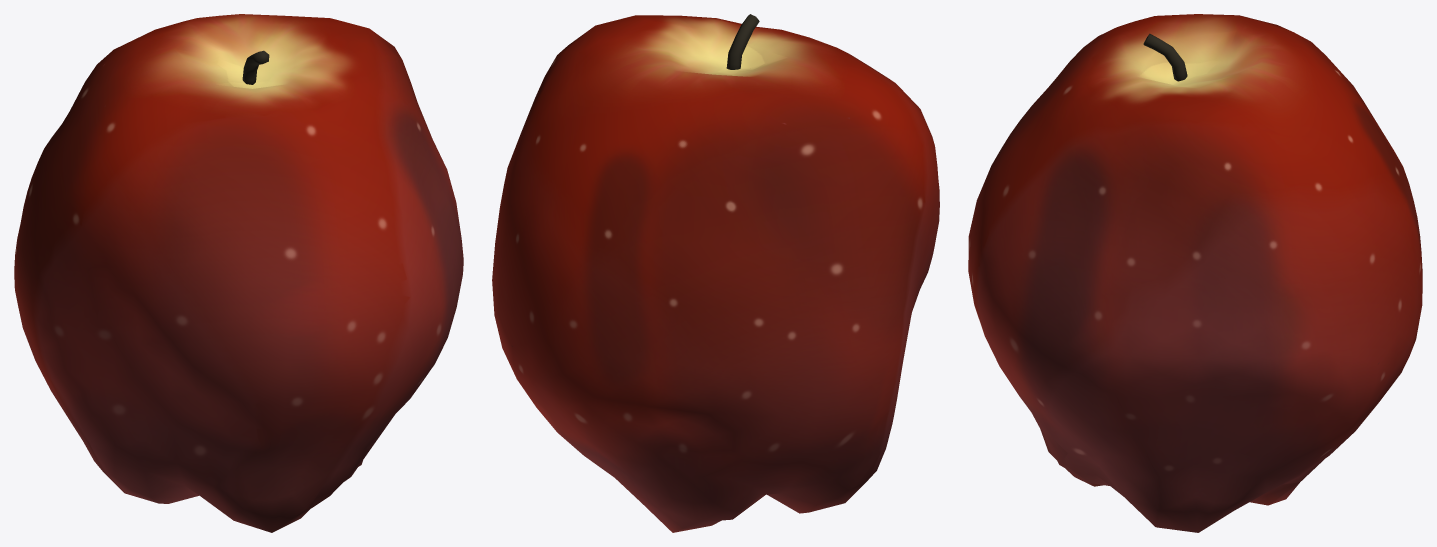
Rendered from apple.fbx.
3 renders of one model, left to right at view 1: azimuth 30°, elevation 25°; view 2: azimuth 150°, elevation 25°; view 3: azimuth 270°, elevation 25°, orthographic. The views are drawn at different scales.
Parts seen in each view (by area): view 1: Icosphere, Cylinder; view 2: Icosphere, Cylinder; view 3: Icosphere, Cylinder.
Boxes of the visible parts, left/top/right/bottom form: Icosphere: left=14, top=14, right=463, bottom=532; Cylinder: left=242, top=50, right=269, bottom=84; Icosphere: left=492, top=15, right=939, bottom=532; Cylinder: left=726, top=14, right=759, bottom=69; Icosphere: left=968, top=14, right=1422, bottom=532; Cylinder: left=1143, top=33, right=1187, bottom=81.
Bounding box in the file's own units: 191 × 222 × 199.
